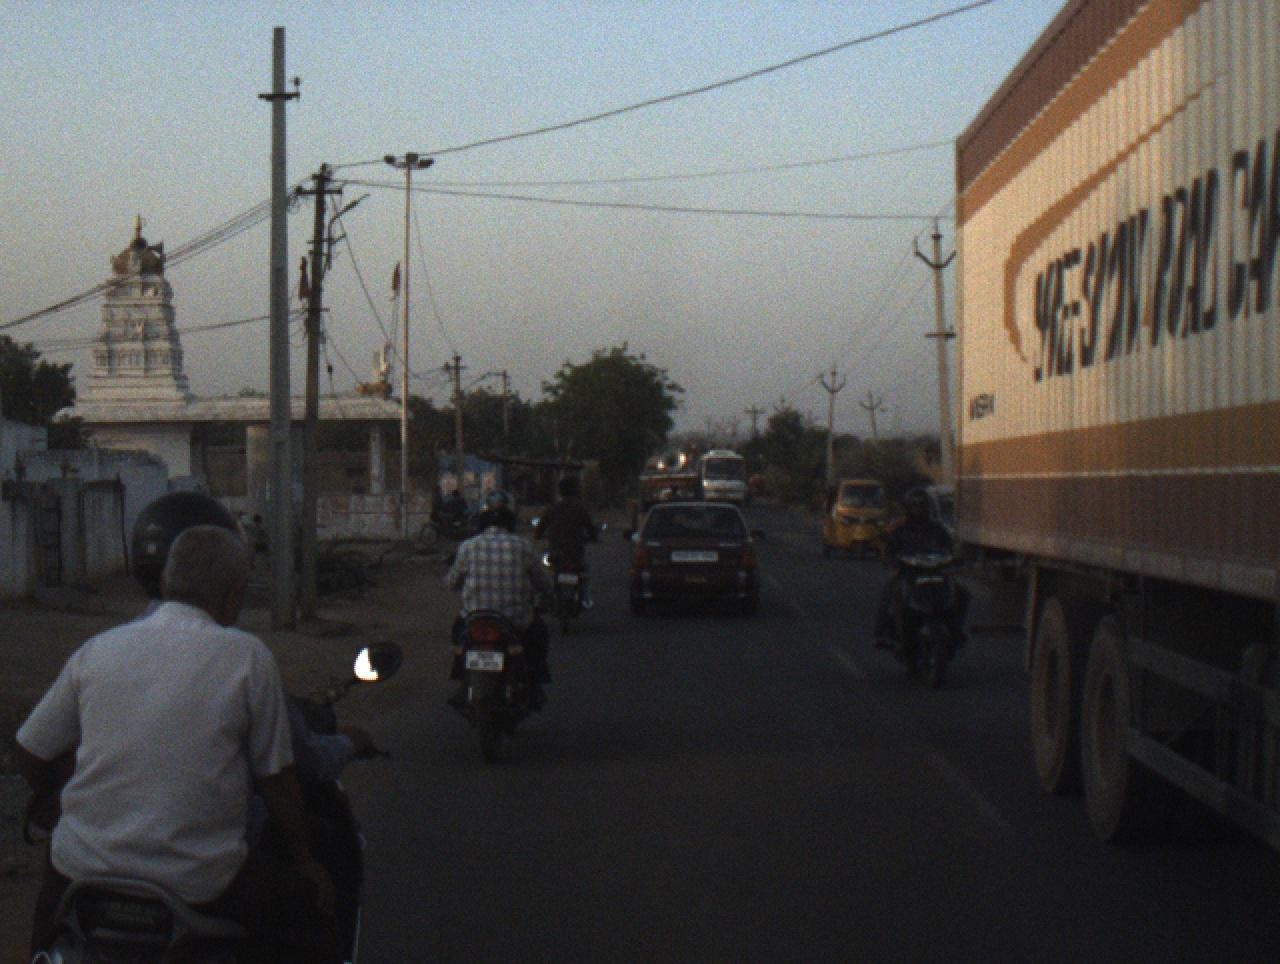off: (0, 11, 1180, 964)
